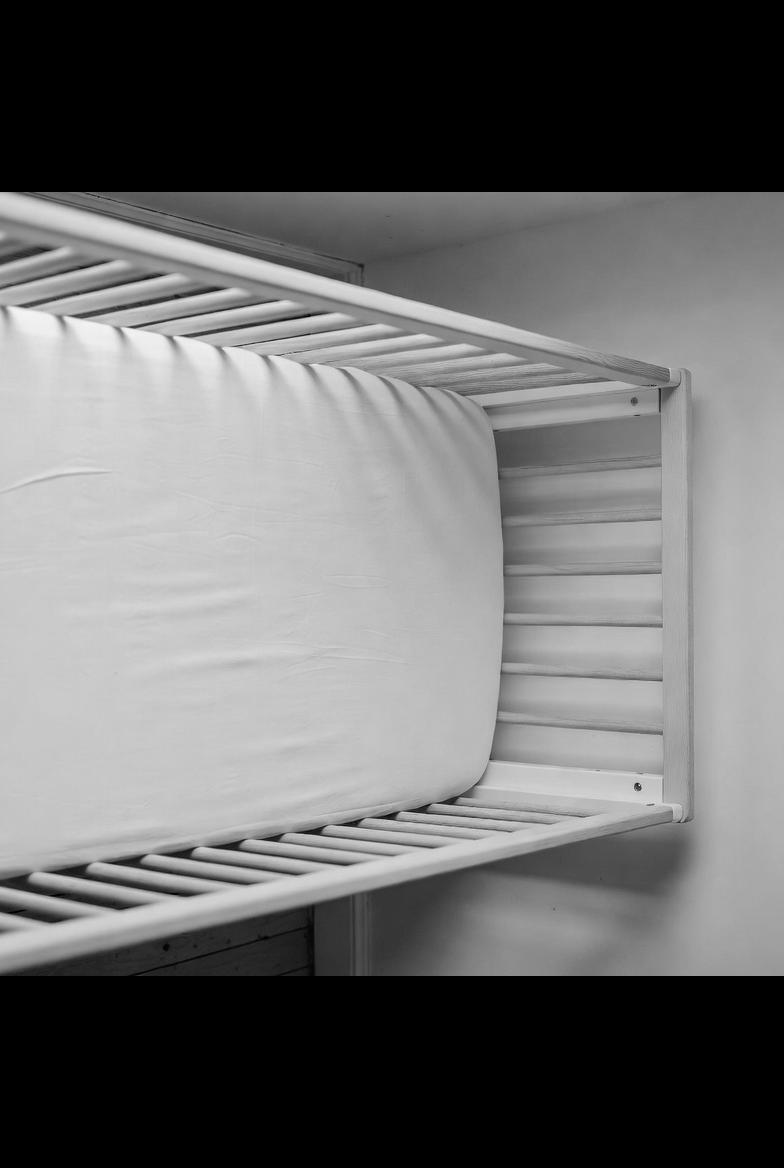crib: (0, 192, 691, 976)
